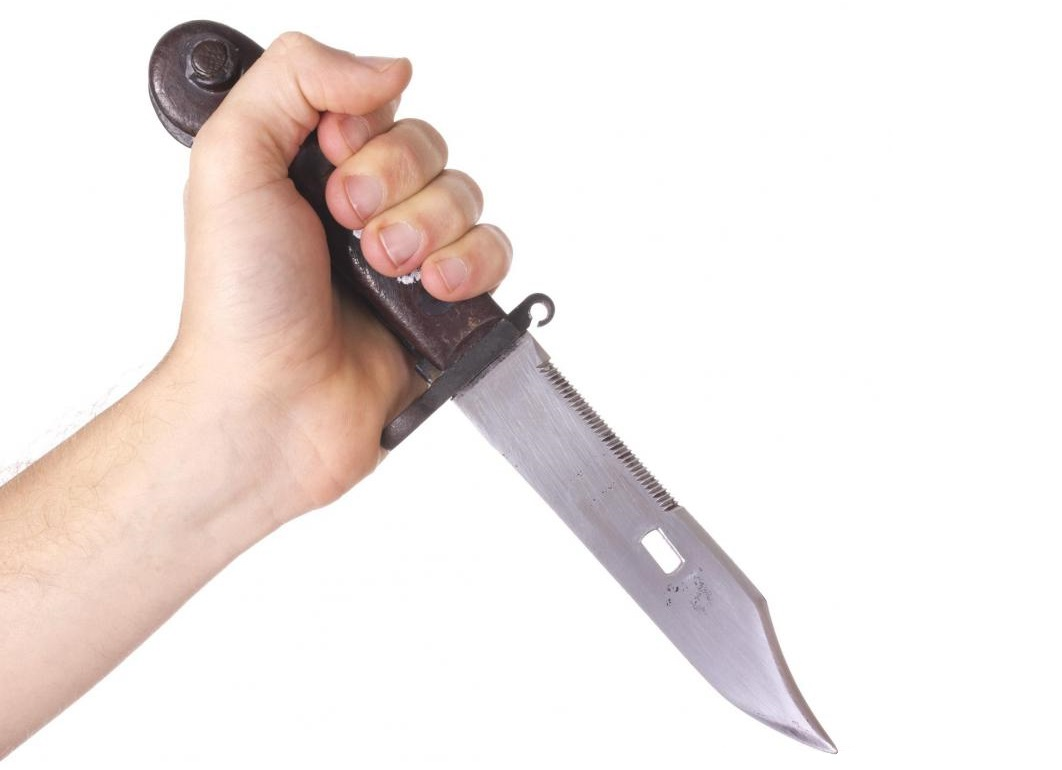knife: (299, 152, 851, 767)
